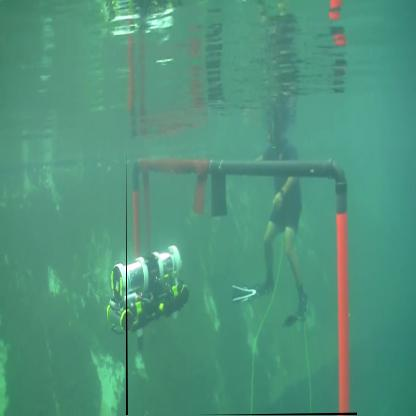gate: (127, 149, 360, 416)
